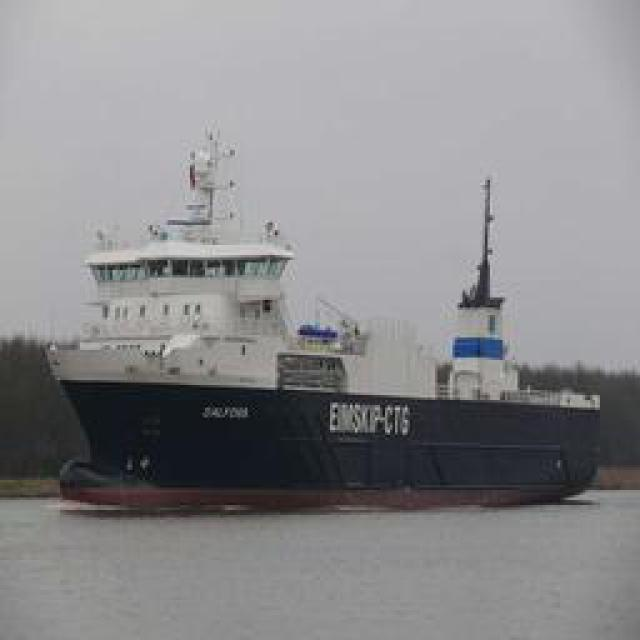Ship: (51, 120, 599, 500)
